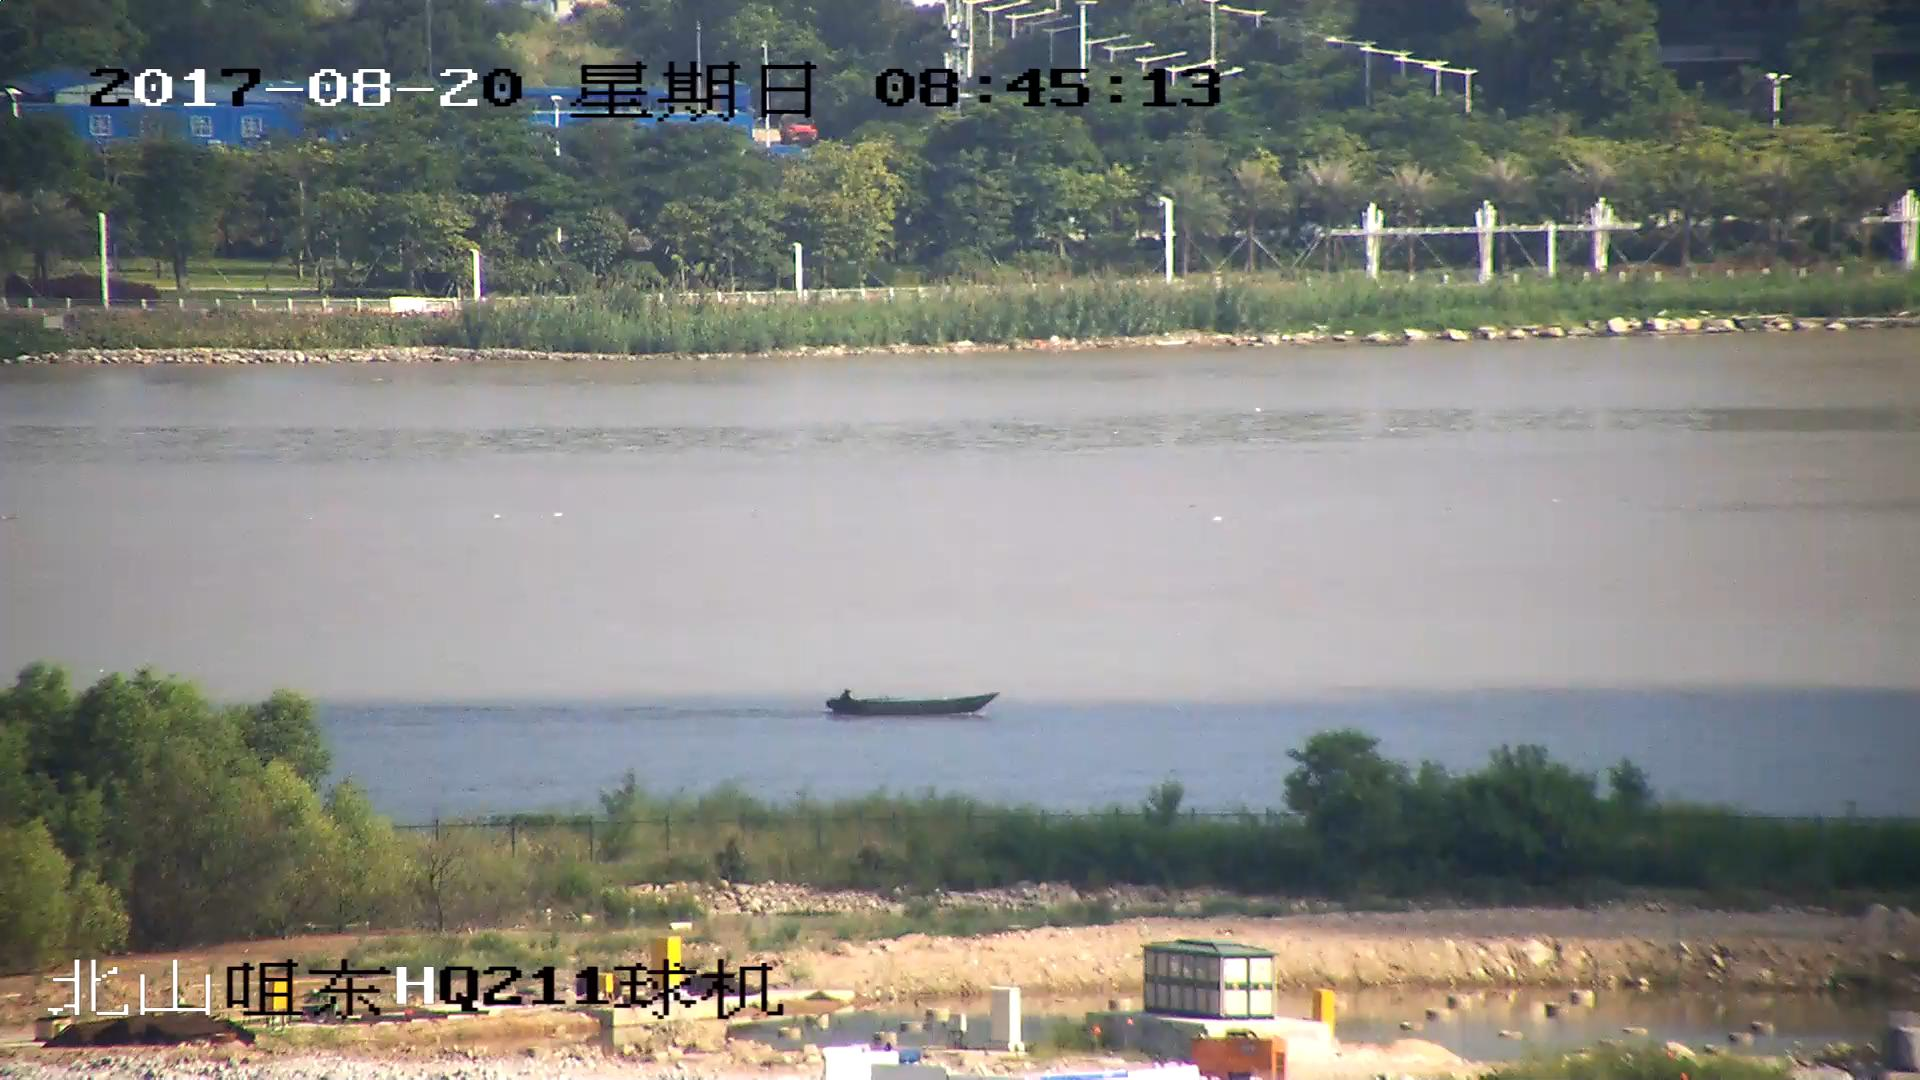fishing boat: (825, 689, 996, 720)
